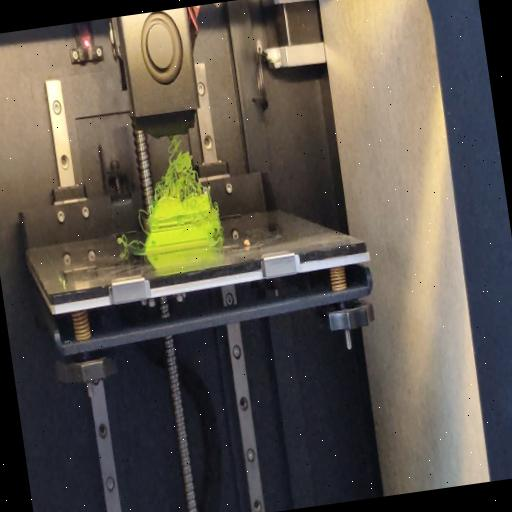spaghetti: (146, 128, 212, 207), (116, 230, 146, 250), (136, 203, 150, 241), (212, 232, 227, 250)
